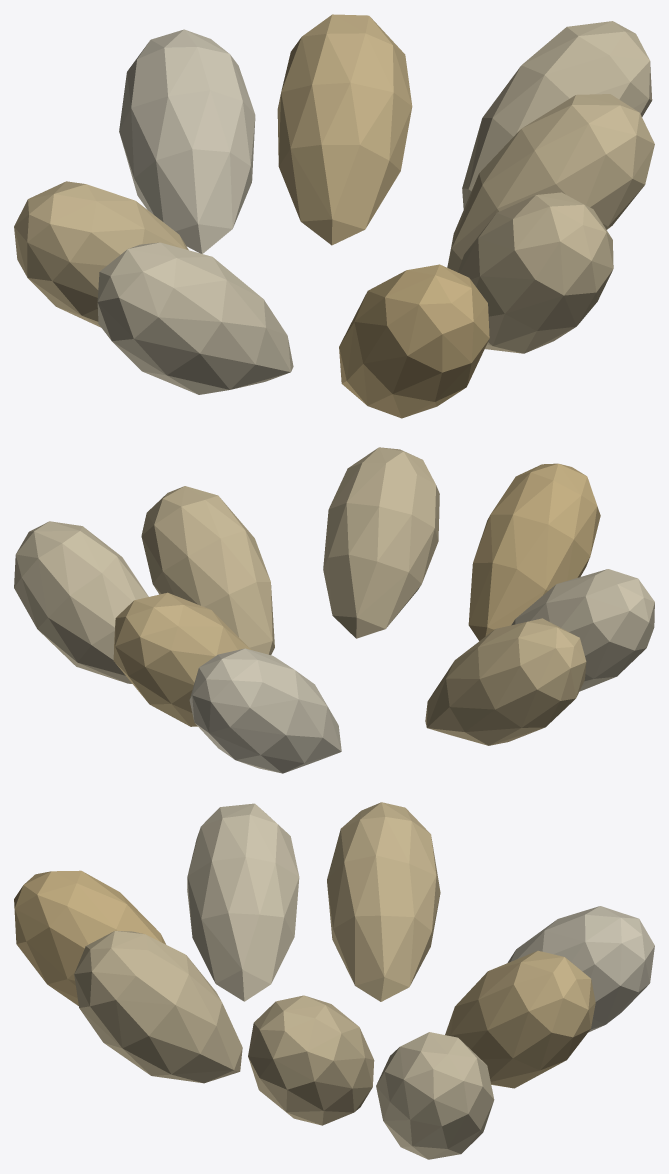
Rendered from loose-egg-clutch-8685d2.glb.
The picture shows the model from 3 angles, top to bottom: view 1: azimuth 30°, elevation 25°; view 2: azimuth 150°, elevation 25°; view 3: azimuth 270°, elevation 25°; orthographic projection. The views are drawn at different scales.
Parts seen in each view (by area): view 1: egg-6-shell, egg-5-shell, egg-3-shell, egg-1-shell, egg-2-shell, egg-8-shell, egg-4-shell, egg-7-shell; view 2: egg-1-shell, egg-2-shell, egg-4-shell, egg-8-shell, egg-5-shell, egg-7-shell, egg-6-shell, egg-3-shell; view 3: egg-1-shell, egg-4-shell, egg-3-shell, egg-6-shell, egg-8-shell, egg-7-shell, egg-2-shell, egg-5-shell.
Part boxes in pixels (x1=…): egg-6-shell: x1=277, y1=14, x2=412, y2=245; egg-5-shell: x1=119, y1=29, x2=255, y2=253; egg-3-shell: x1=97, y1=242, x2=293, y2=394; egg-1-shell: x1=457, y1=192, x2=613, y2=353; egg-2-shell: x1=339, y1=264, x2=489, y2=418; egg-8-shell: x1=447, y1=94, x2=654, y2=272; egg-4-shell: x1=14, y1=181, x2=188, y2=327; egg-7-shell: x1=462, y1=21, x2=652, y2=209; egg-1-shell: x1=323, y1=447, x2=439, y2=638; egg-2-shell: x1=468, y1=463, x2=600, y2=640; egg-4-shell: x1=425, y1=618, x2=586, y2=745; egg-8-shell: x1=141, y1=486, x2=274, y2=654; egg-5-shell: x1=189, y1=648, x2=341, y2=773; egg-7-shell: x1=14, y1=521, x2=148, y2=683; egg-6-shell: x1=113, y1=592, x2=250, y2=726; egg-3-shell: x1=511, y1=569, x2=654, y2=691; egg-1-shell: x1=74, y1=931, x2=242, y2=1083; egg-4-shell: x1=327, y1=802, x2=440, y2=1001; egg-3-shell: x1=187, y1=803, x2=299, y2=1001; egg-6-shell: x1=445, y1=950, x2=595, y2=1088; egg-8-shell: x1=248, y1=995, x2=374, y2=1125; egg-7-shell: x1=376, y1=1032, x2=494, y2=1159; egg-2-shell: x1=14, y1=870, x2=165, y2=1005; egg-5-shell: x1=507, y1=906, x2=654, y2=1032.
Size of the model in its own units: 0.5206 by 0.129 by 0.5088.
